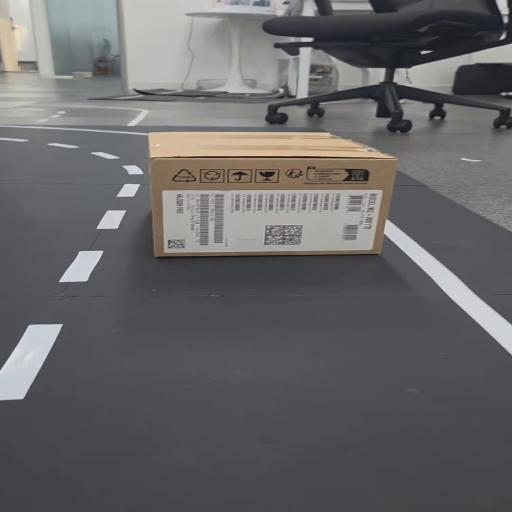Box: (129, 129, 399, 260)
